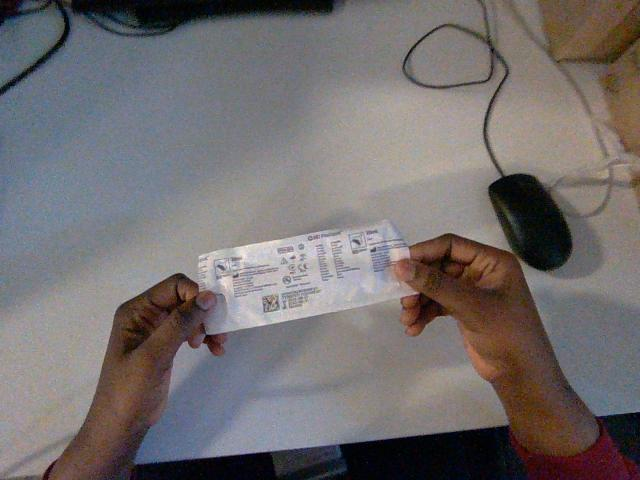syringe: (198, 220, 414, 333)
